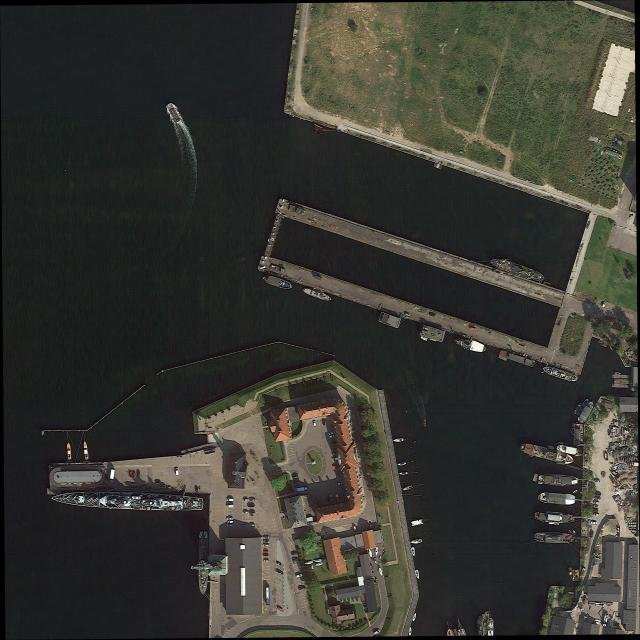large-vehicle: (109, 470, 116, 483), (295, 485, 307, 492)
ship: (52, 492, 204, 512), (490, 257, 546, 283), (520, 442, 574, 465), (498, 350, 538, 369), (198, 531, 208, 594), (454, 336, 489, 354), (543, 365, 579, 382), (534, 510, 574, 524), (262, 274, 294, 291), (539, 492, 576, 505), (538, 474, 578, 486), (534, 532, 573, 544), (302, 287, 333, 302), (419, 325, 445, 342), (578, 400, 595, 423), (378, 312, 401, 329), (166, 103, 182, 124), (557, 445, 577, 455), (83, 441, 89, 460), (487, 619, 494, 635), (477, 619, 484, 635), (411, 519, 424, 527), (573, 403, 582, 414), (598, 339, 608, 347), (410, 539, 423, 545), (392, 437, 404, 443), (433, 163, 443, 170), (67, 443, 71, 459), (582, 398, 589, 407), (403, 485, 413, 491), (415, 570, 421, 579), (397, 462, 407, 467), (315, 562, 324, 567), (368, 549, 373, 558), (378, 567, 383, 576), (411, 547, 416, 556), (412, 612, 417, 621), (315, 558, 323, 563), (398, 472, 408, 476), (420, 336, 428, 341), (131, 495, 141, 499), (568, 568, 572, 577), (304, 561, 313, 565), (422, 420, 427, 427), (408, 627, 412, 635), (548, 445, 555, 449), (375, 547, 378, 556), (572, 490, 578, 494), (572, 530, 576, 536), (571, 429, 575, 435), (557, 442, 564, 445), (614, 372, 621, 375), (609, 346, 613, 351)
small-vehicle: (373, 629, 381, 635), (295, 573, 303, 579), (276, 569, 283, 575), (428, 312, 436, 317), (298, 585, 305, 590), (277, 606, 283, 611), (276, 561, 282, 566), (137, 470, 141, 477), (175, 468, 179, 475), (594, 496, 601, 500), (590, 531, 594, 538), (470, 327, 477, 331), (374, 557, 378, 564), (249, 498, 256, 502), (227, 504, 234, 508), (329, 495, 333, 502), (328, 431, 335, 435), (313, 420, 317, 427), (335, 494, 340, 499), (602, 302, 606, 308), (591, 521, 597, 525), (292, 551, 298, 555), (293, 558, 299, 562), (369, 523, 373, 529), (353, 526, 357, 532), (331, 448, 337, 452), (263, 536, 269, 540), (242, 523, 248, 527), (243, 510, 249, 514), (249, 510, 255, 514), (228, 498, 234, 502), (333, 464, 339, 468), (329, 434, 335, 438), (322, 419, 325, 426), (248, 505, 255, 508), (594, 415, 597, 422), (263, 544, 270, 547), (263, 540, 270, 543), (227, 517, 234, 520), (405, 313, 410, 317), (595, 479, 600, 483), (596, 492, 601, 496), (594, 504, 599, 508), (333, 457, 338, 461), (105, 474, 108, 480), (129, 471, 132, 477), (133, 471, 136, 477), (593, 501, 599, 504), (594, 513, 600, 516), (263, 553, 269, 556), (332, 452, 338, 455), (263, 559, 269, 562), (227, 524, 233, 527), (249, 523, 255, 526), (228, 520, 234, 523), (337, 482, 343, 485), (264, 551, 269, 553), (243, 499, 248, 501)
